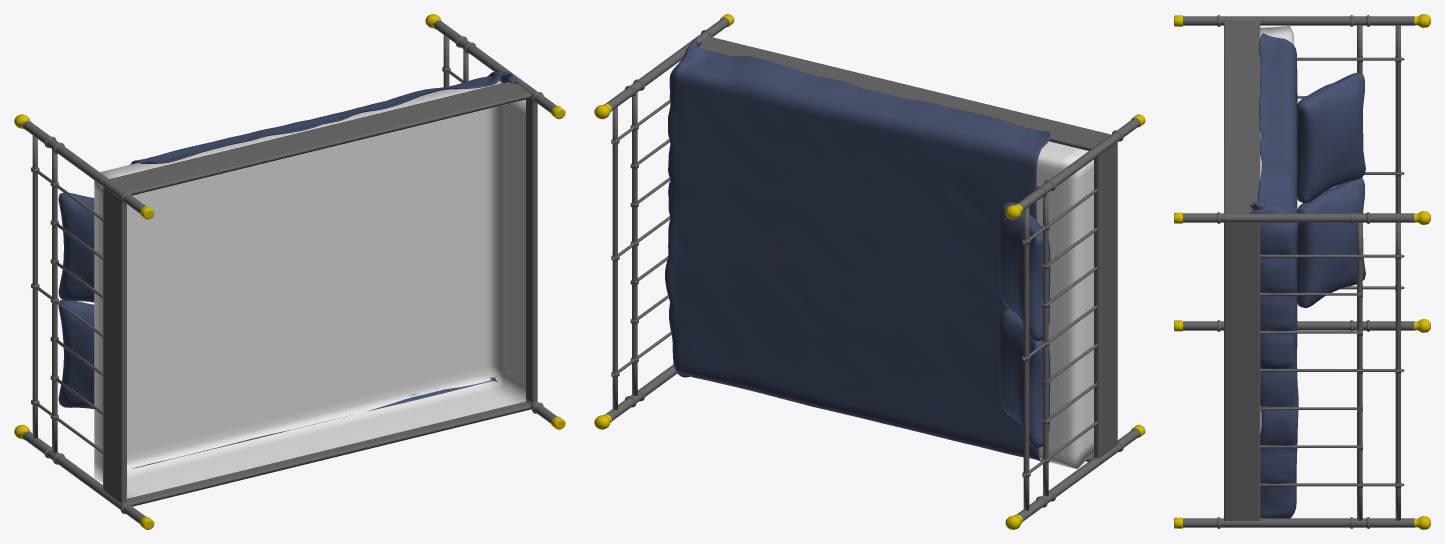
File: Bed.dae
The picture shows the model from 3 angles, left to right: view 1: azimuth 30°, elevation 25°; view 2: azimuth 150°, elevation 25°; view 3: azimuth 270°, elevation 25°; orthographic projection.
Parts seen in each view (by area): view 1: Sängyn_Runko; view 2: Sängyn_Runko; view 3: Sängyn_Runko.
Part boxes in pixels (x1,y1,x2,y2): Sängyn_Runko: (14, 14, 565, 529); Sängyn_Runko: (594, 14, 1145, 529); Sängyn_Runko: (1174, 14, 1430, 529).
Bounding box in the file's own units: 2.19 × 1.17 × 1.65.
